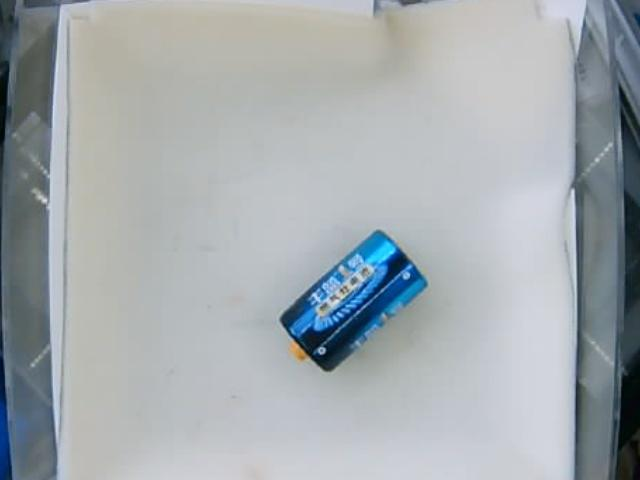Battery: (278, 230, 428, 373)
